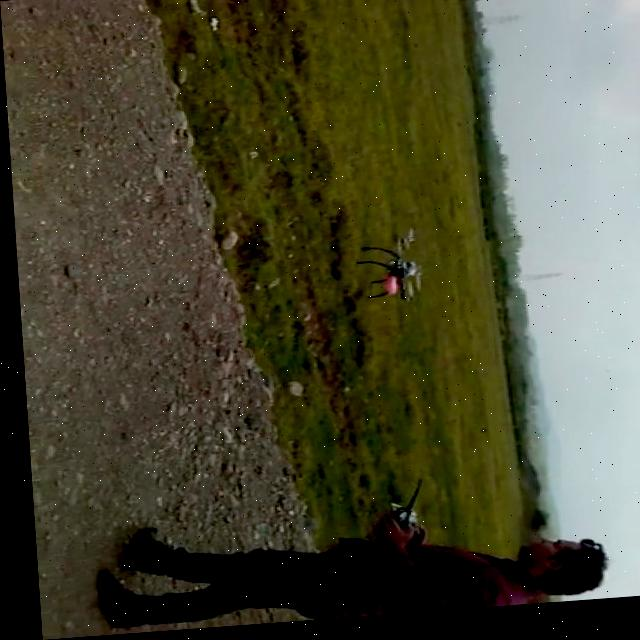drone: (351, 231, 423, 311)
